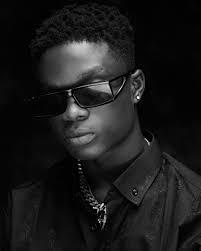sunglasses: (29, 74, 124, 118)
